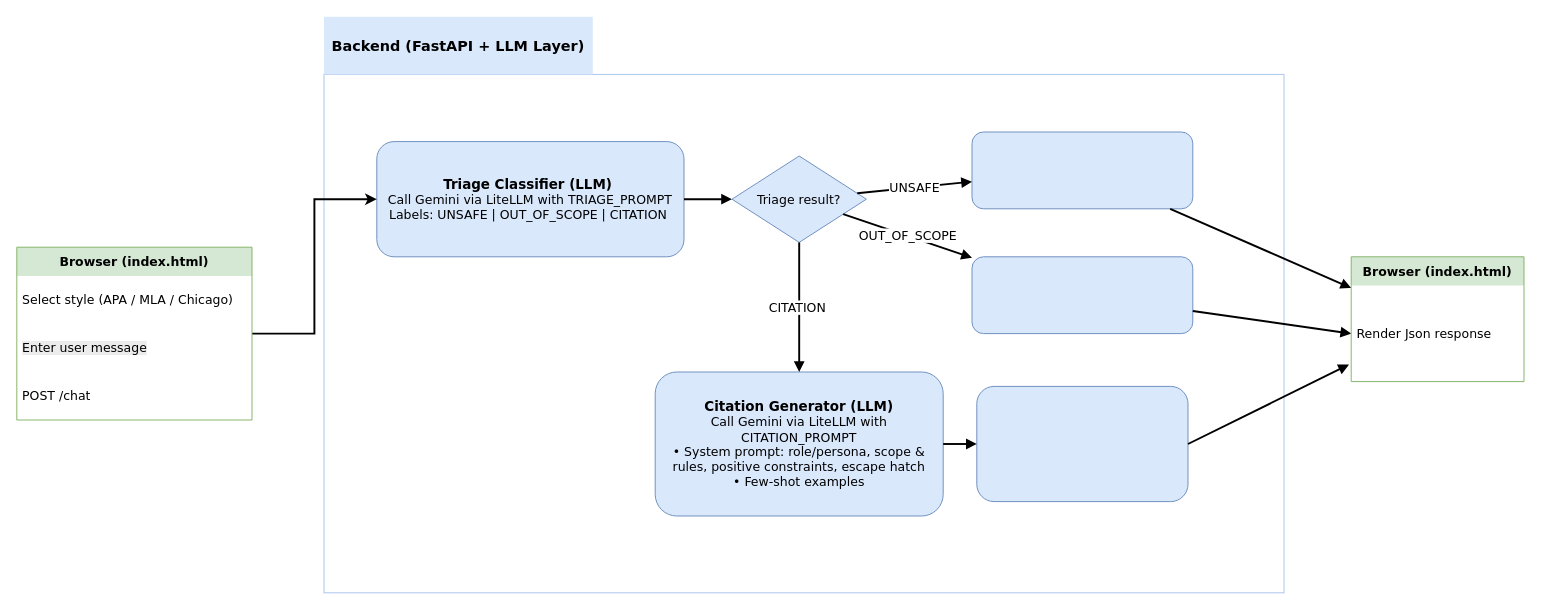
The diagram is 1541 pixels wide and 610 high, and some of its shapes have lost their labels. Here are the shapes that lost their labels. From the top down, the centre of each, then its label:
pixel 1082 170: return SAFETY_RESPONSE
pixel 1082 295: return OFF_TOPIC_RESPONSE
pixel 1082 443: Post-generation backstop for Safety return FINAL_RESPONSE
